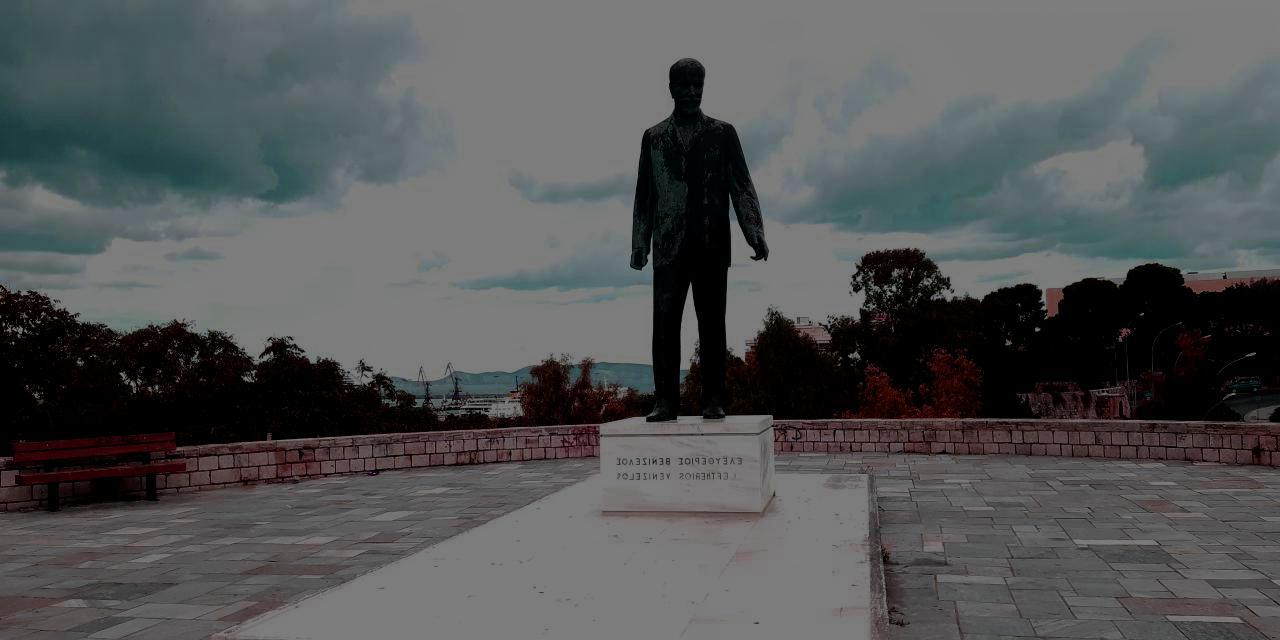Venizelos: (629, 60, 767, 422)
